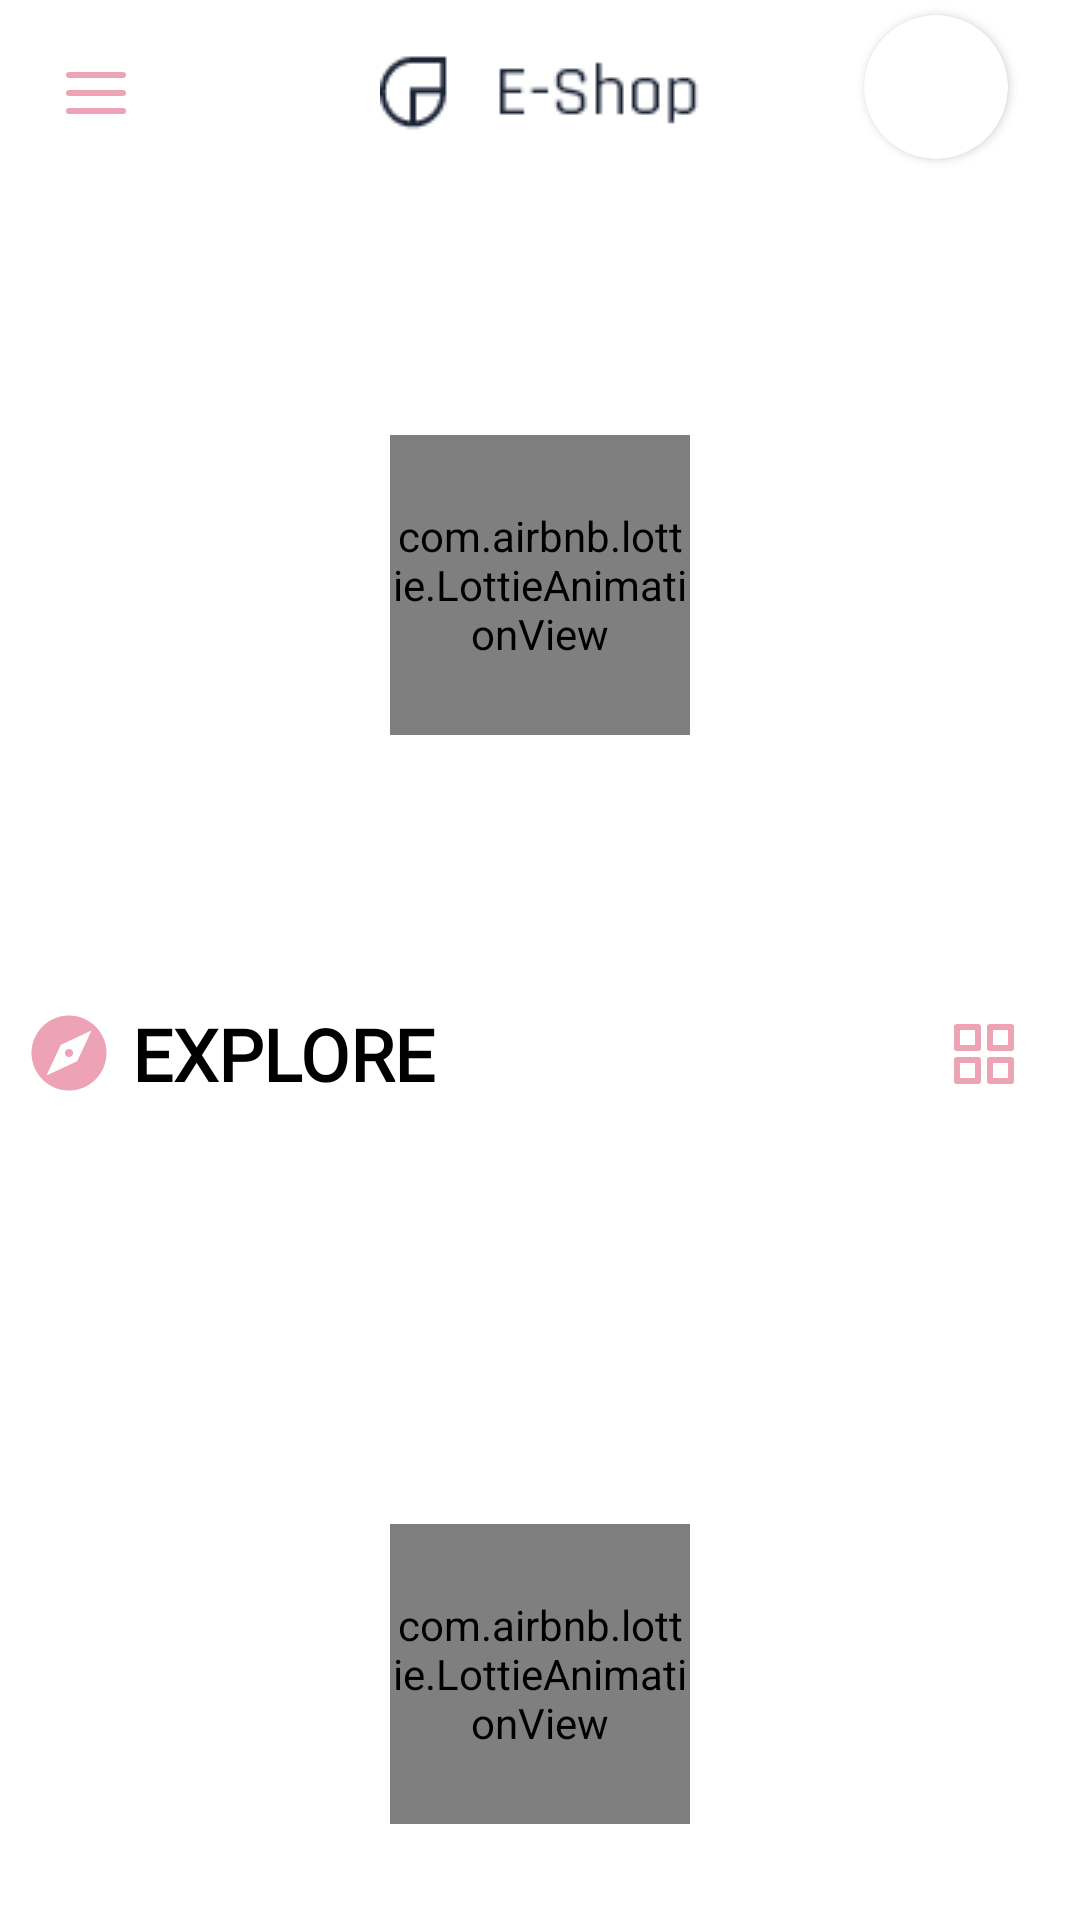

Named icons in this screenshot (1080px×1920px) and their bounding boxes, (x1, y1, x2, y2):
grid: (954, 1024, 1014, 1084)
menu: (66, 72, 126, 114)
